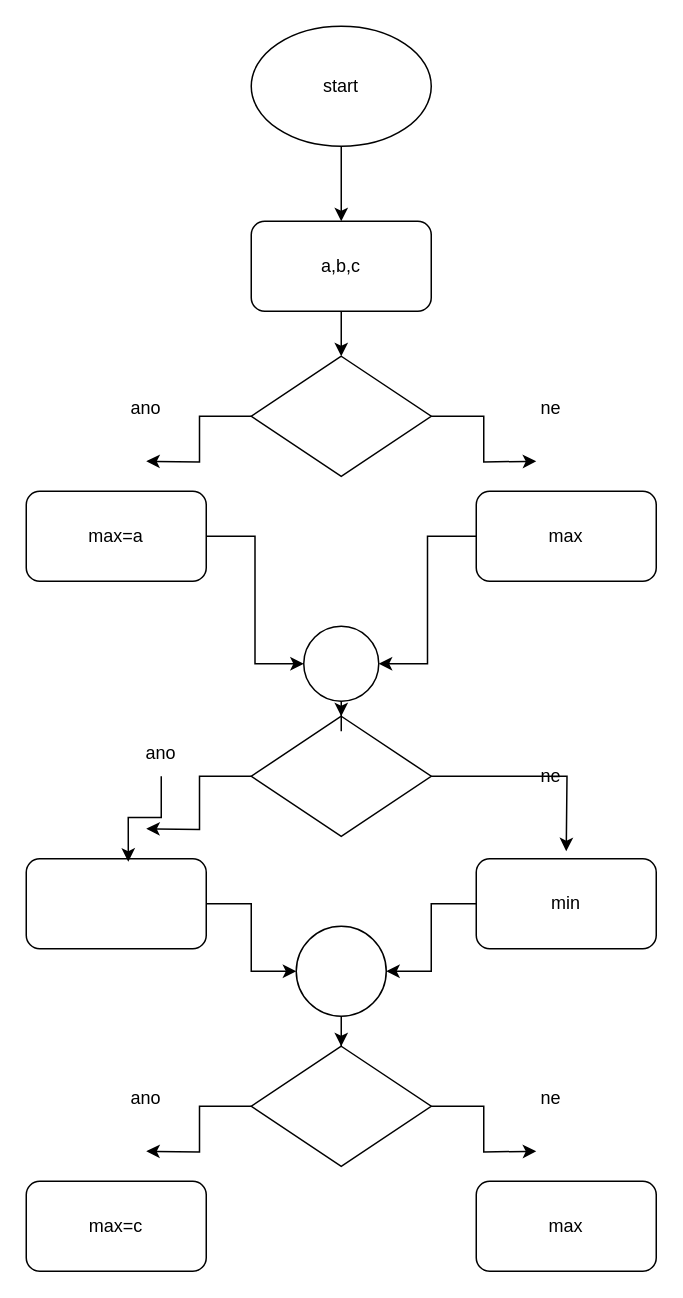
Some shapes in this 683 by 1298 pixel diagram are drawn without their labels. The shapes that lost their labels are listed below. From the top down, each one's box as (x1, y1, x2, y2) in pixels, then its label:
(250, 355, 431, 476): a<max
(250, 715, 431, 836): b<max
(25, 857, 206, 949): max=b
(250, 1045, 431, 1166): c<max
